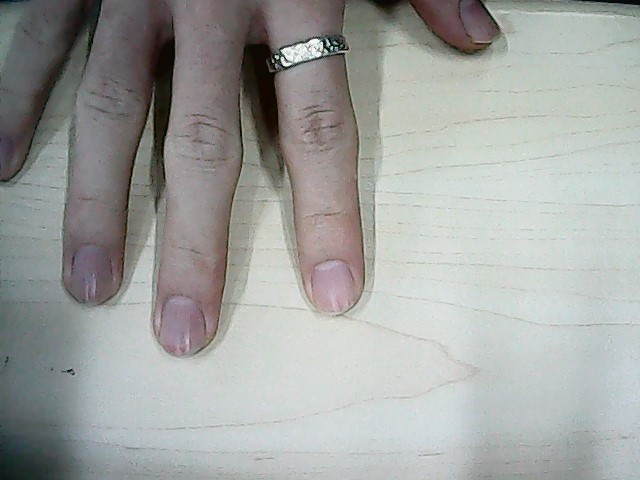nail: (158, 293, 208, 360), (308, 257, 356, 319), (70, 241, 115, 305), (454, 1, 502, 55)
